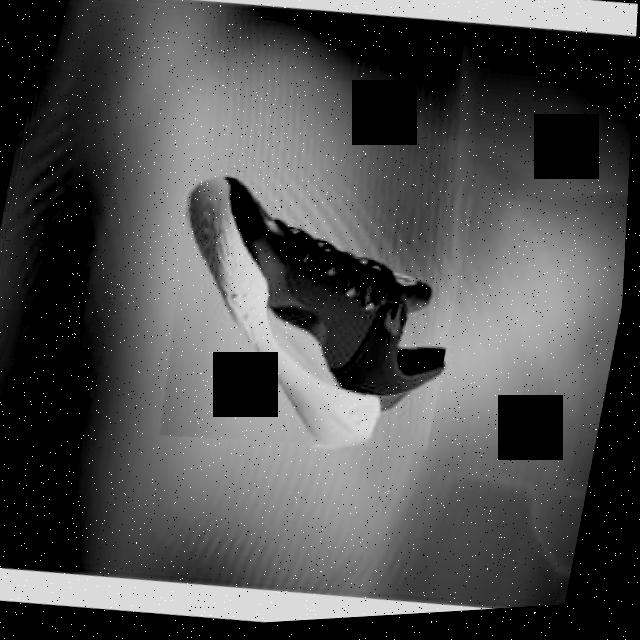shoe: (146, 163, 479, 476)
